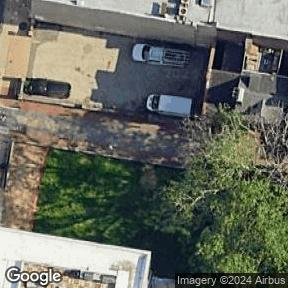vegetation: (165, 97, 288, 272)
